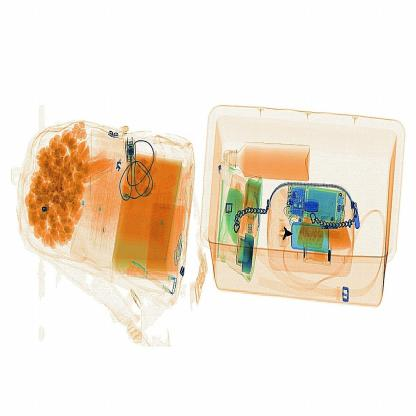gun: (274, 214, 297, 254)
